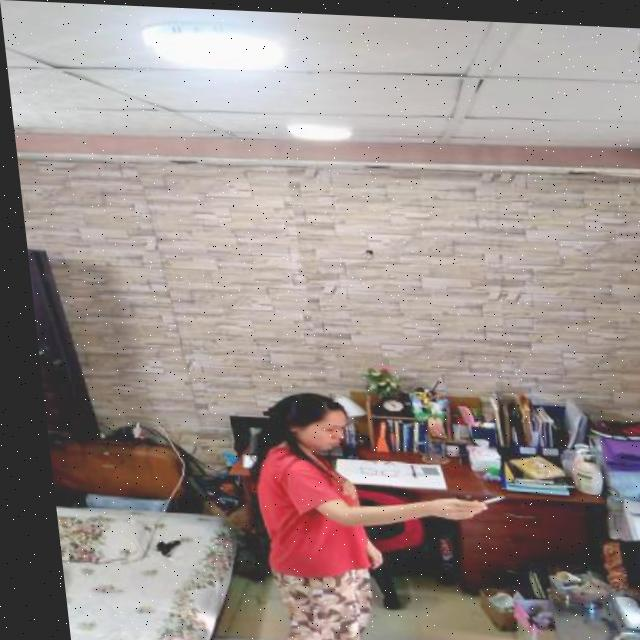cigarette: (471, 490, 495, 501)
